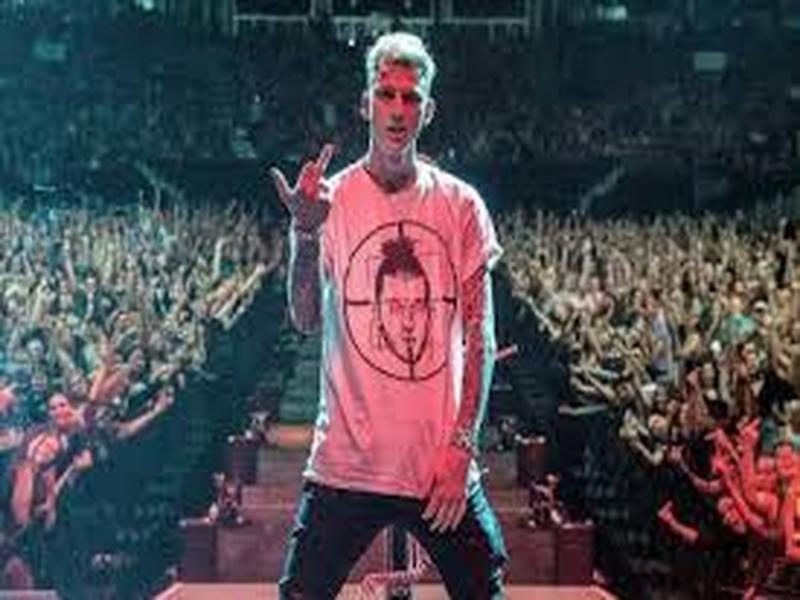flipping_the_bird: (261, 132, 344, 236)
